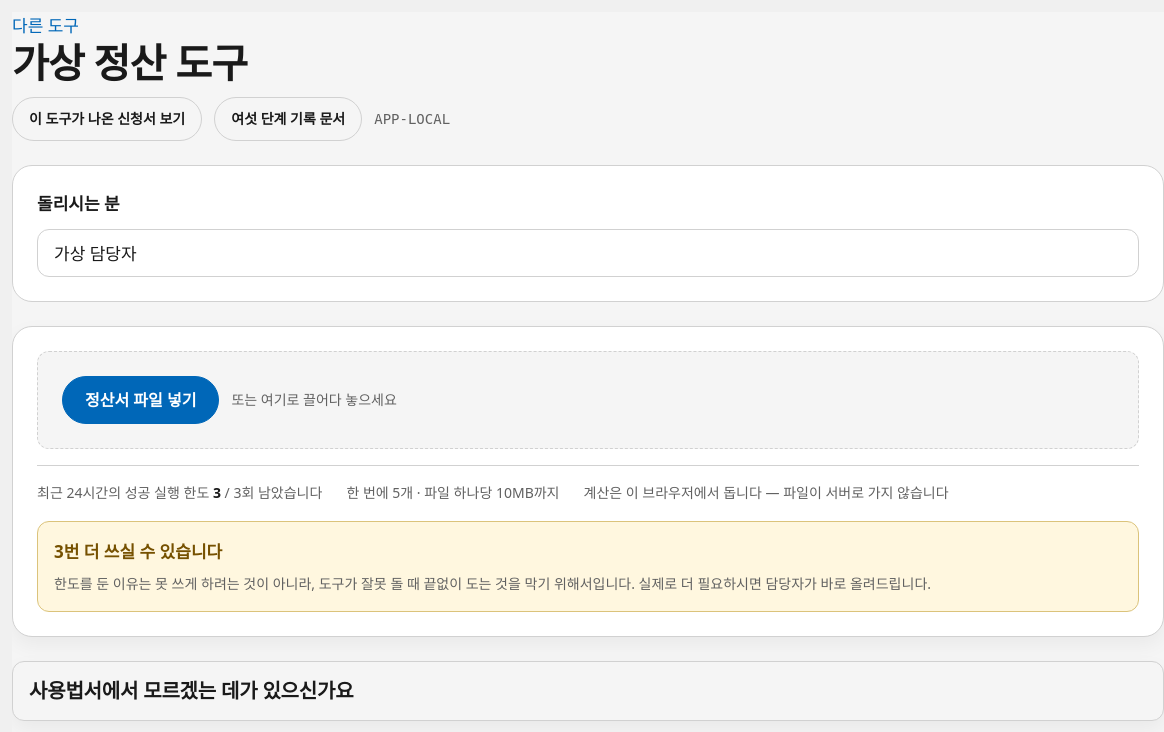
Scenario: 도구 계산과 실행 기록의 실패 구분 › 이전 공용 이름은 새 scope로 자동 이관하지 않고 도구별 입력도 분리한다
The image size is (1164, 732).
Type "첫 도구 이름" into the field labelled "돌리시는 분".
click(588, 253); type("첫 도구 이름")  # box [37,229,1139,277]
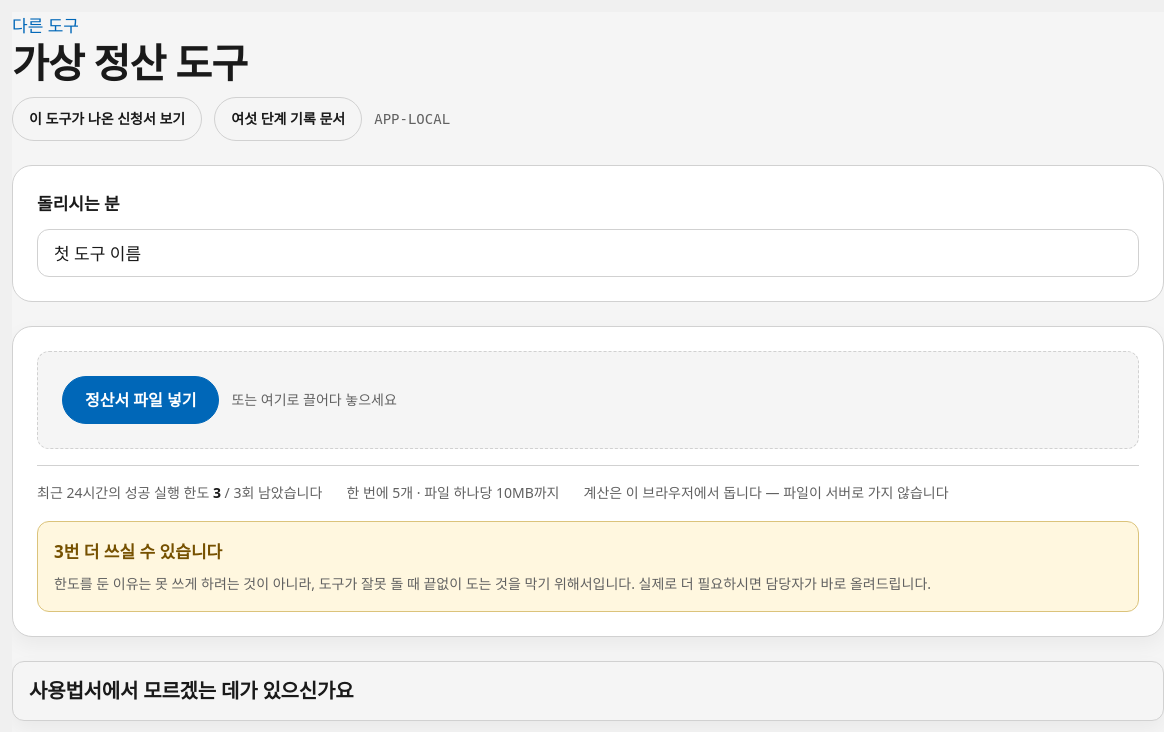
Click the link "다른 도구".
click(46, 26)  # box [12,14,79,37]
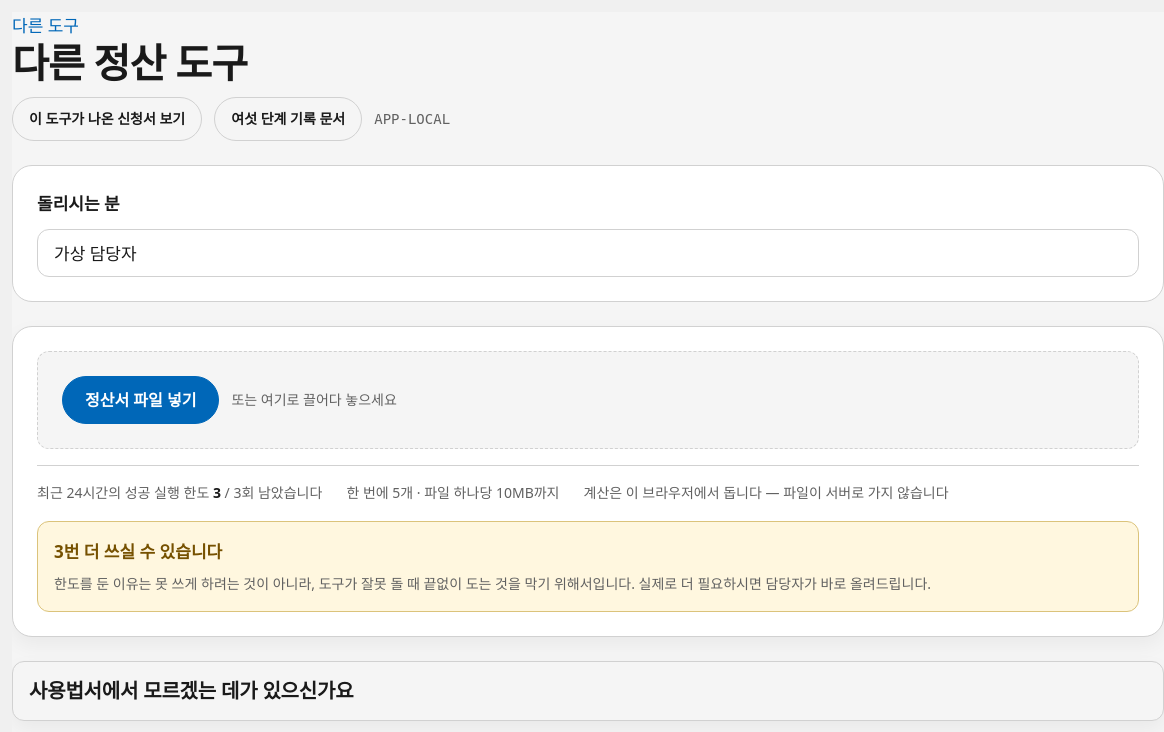
Result: the field labelled "돌리시는 분" holds "가상 담당자" at [37,229,1139,277]
